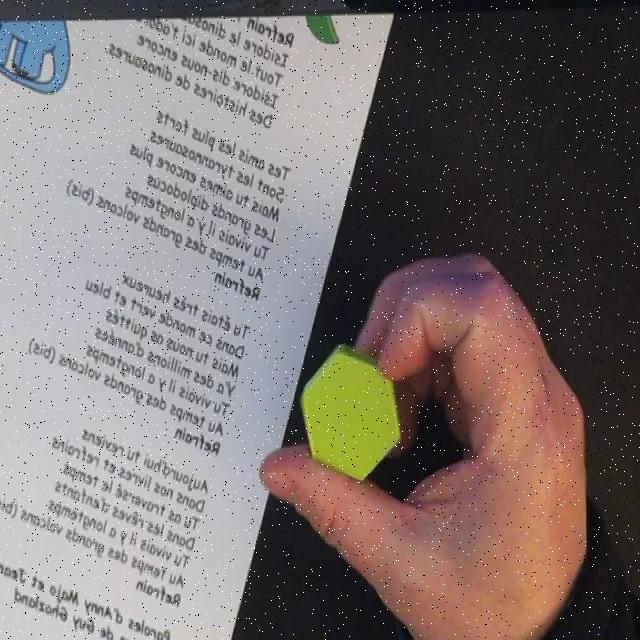hexagon: (299, 346, 401, 485)
